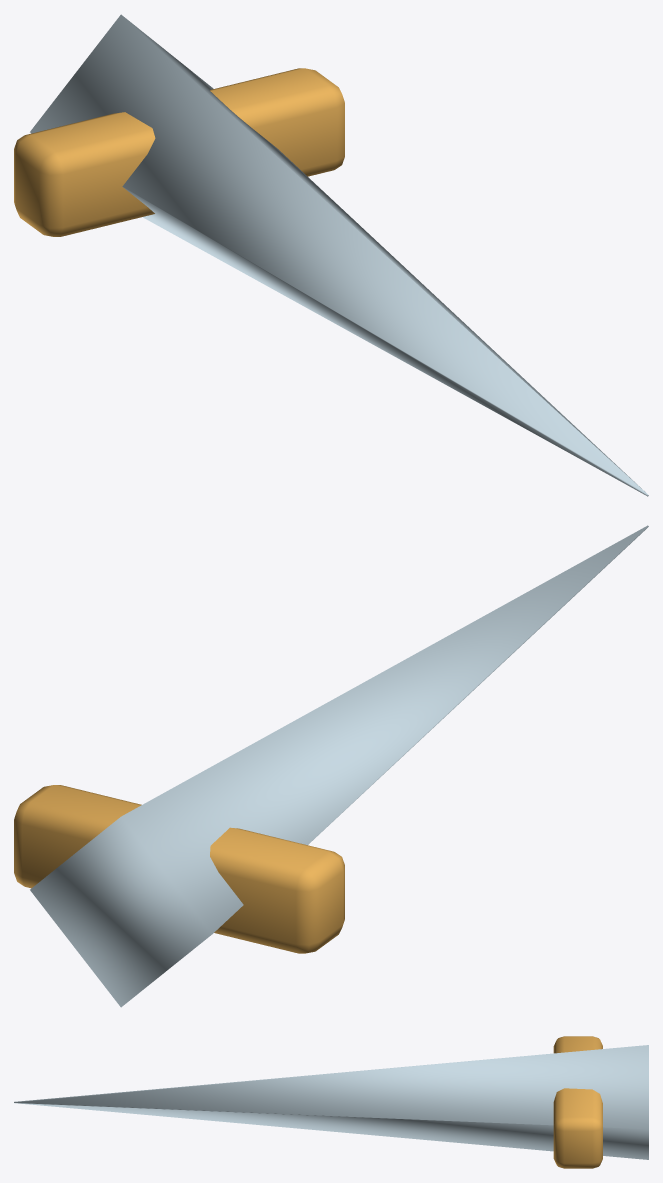
The model's file is ability-1-refined-v15.fbx.
The picture shows the model from 3 angles, top to bottom: view 1: azimuth 30°, elevation 25°; view 2: azimuth 150°, elevation 25°; view 3: azimuth 270°, elevation 25°; orthographic projection. The views are drawn at different scales.
Parts seen in each view (by area): view 1: MagicBlade, BladeGuard; view 2: MagicBlade, BladeGuard; view 3: MagicBlade, BladeGuard.
Part boxes in pixels (<box>): MagicBlade: <box>30,14,648,496</box>; BladeGuard: <box>14,68,344,236</box>; MagicBlade: <box>30,525,648,1007</box>; BladeGuard: <box>14,785,344,953</box>; MagicBlade: <box>14,1045,648,1159</box>; BladeGuard: <box>553,1036,602,1168</box>.
Bounding box in the file's own units: 30 × 18 × 90.
